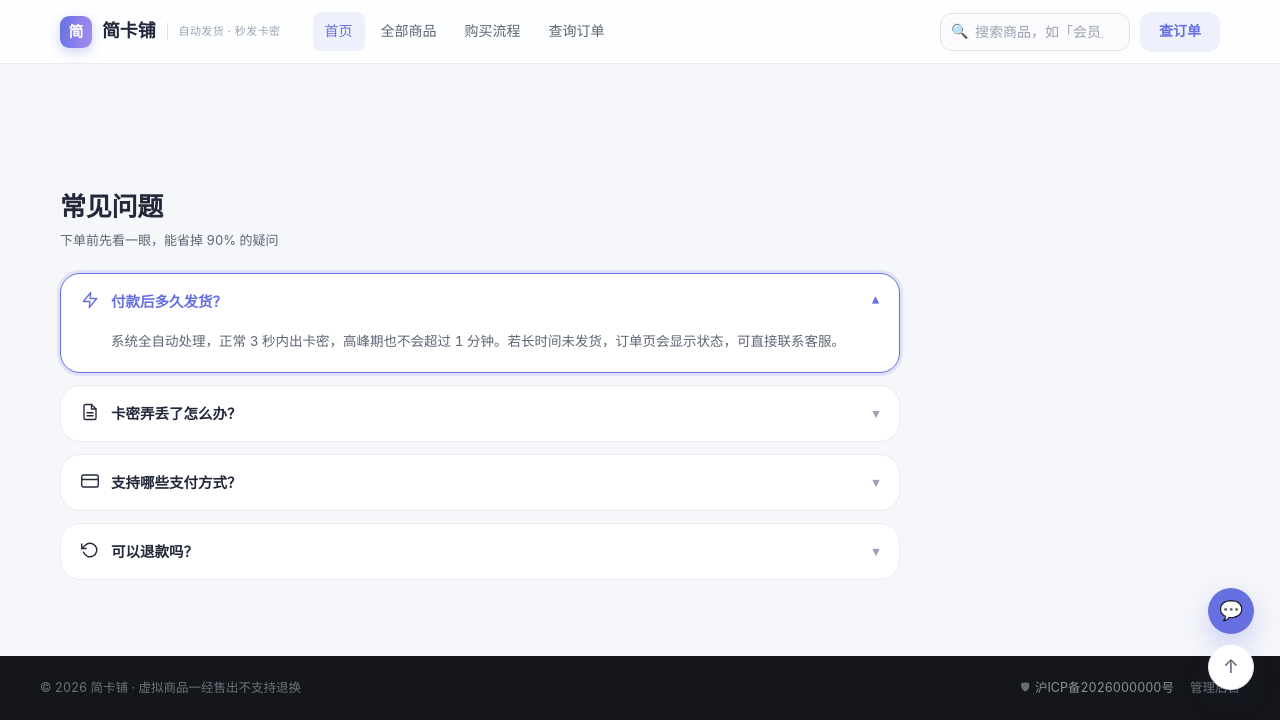
首页区块与页脚 › 常见问题可以点击展开与收起
The width and height of the screenshot is (1280, 720).
(page scrolled)
Click the button "卡密弄丢了怎么办？ ▾" at (176, 413), box [61,386,899,441]
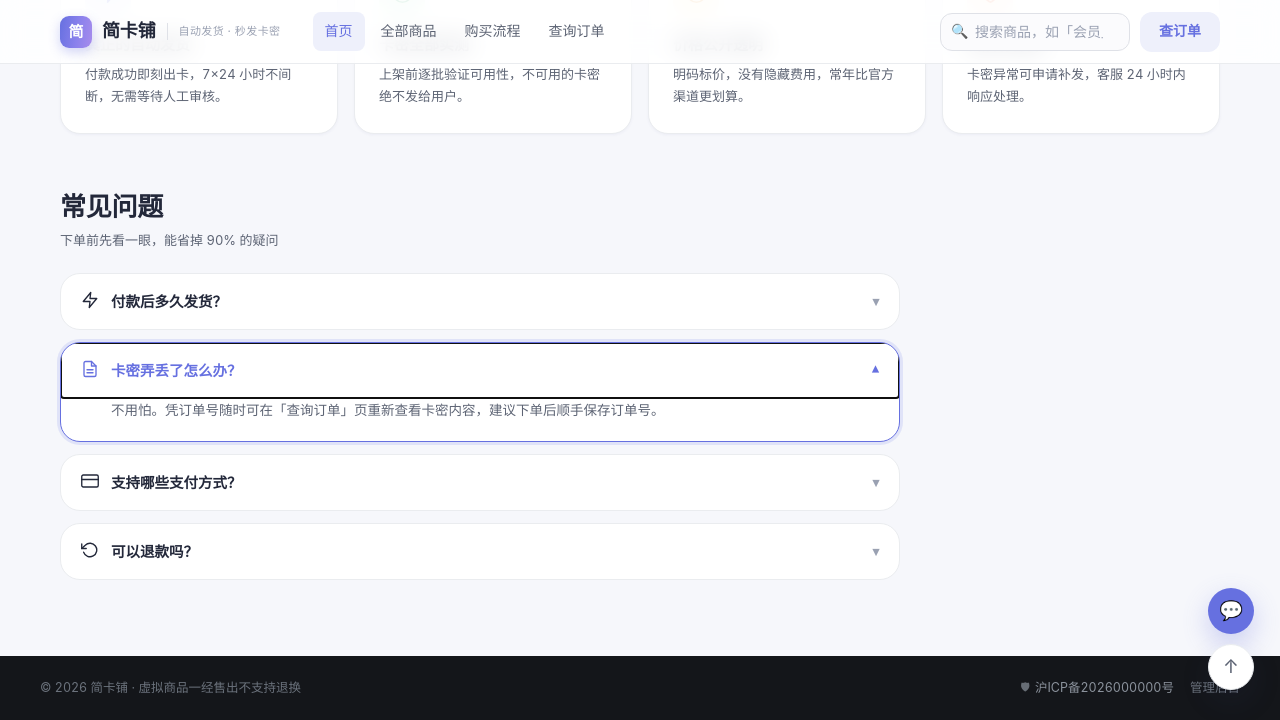
Now the button "卡密弄丢了怎么办？ ▾" is expanded
Now the button "付款后多久发货？ ▾" is collapsed, box [61,274,899,329]
Click the button "卡密弄丢了怎么办？ ▾" at (176, 370), box [61,343,899,398]
(page scrolled)
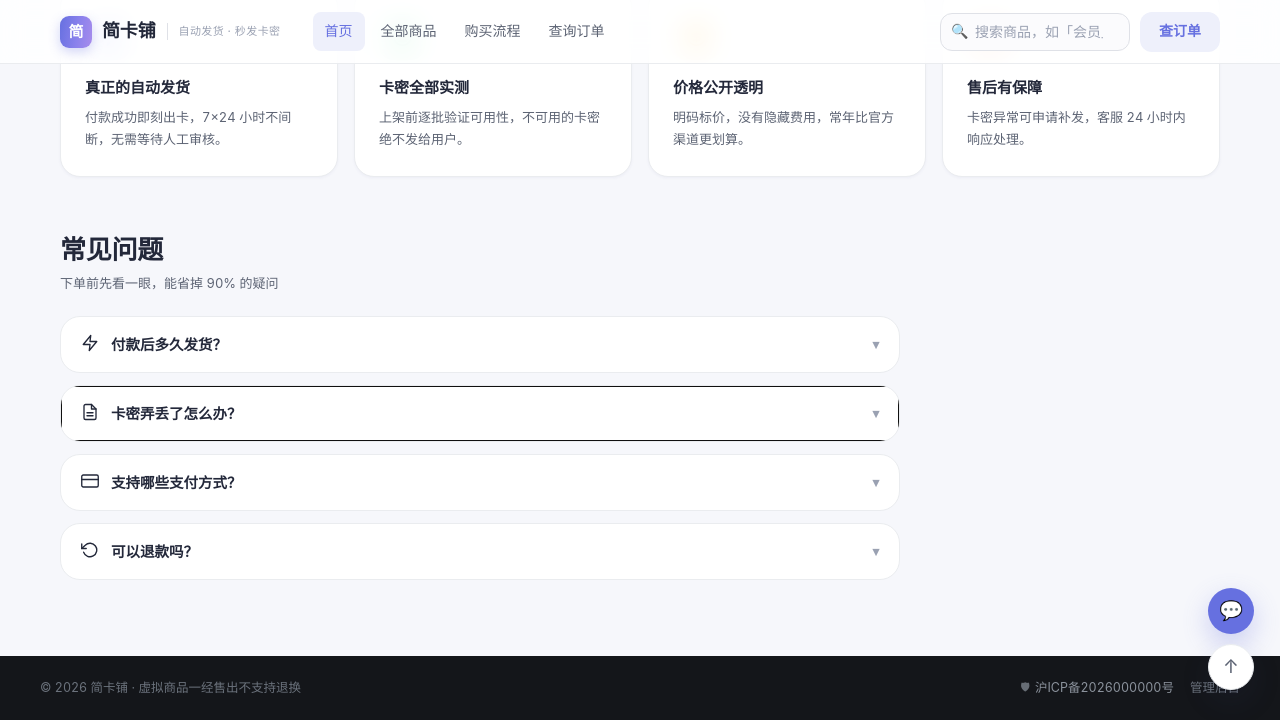
Now the button "卡密弄丢了怎么办？ ▾" is collapsed, box [61,386,899,441]
